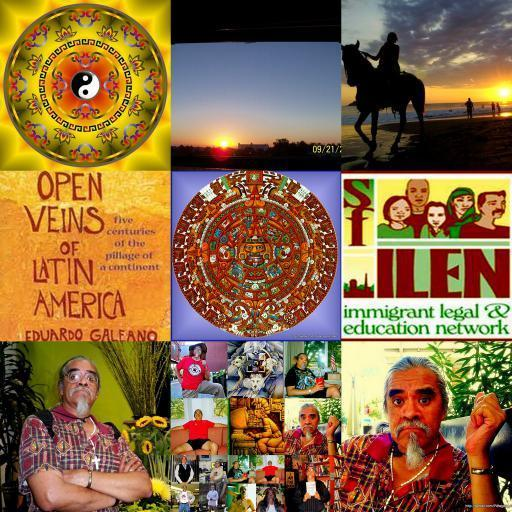horse: (342, 42, 424, 160)
